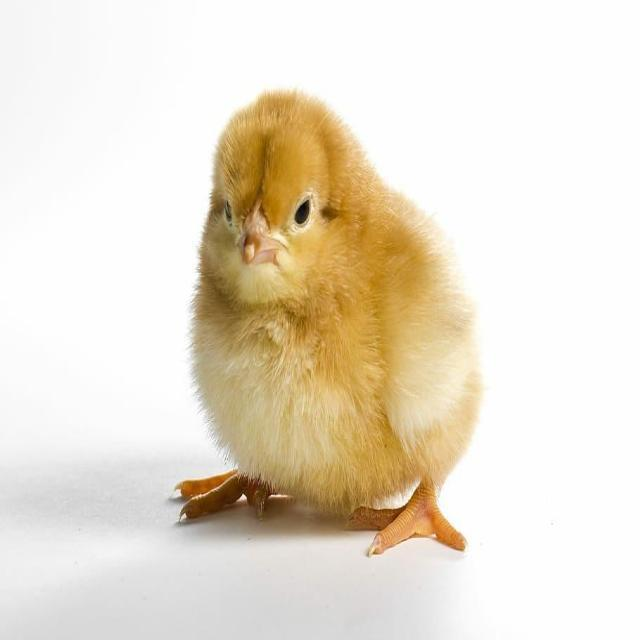poussin: (173, 81, 478, 567)
